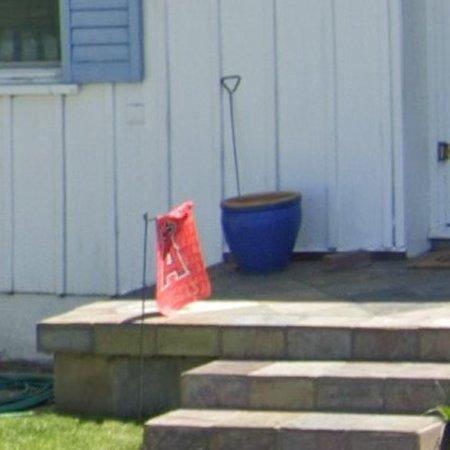stairs: (38, 301, 450, 450)
